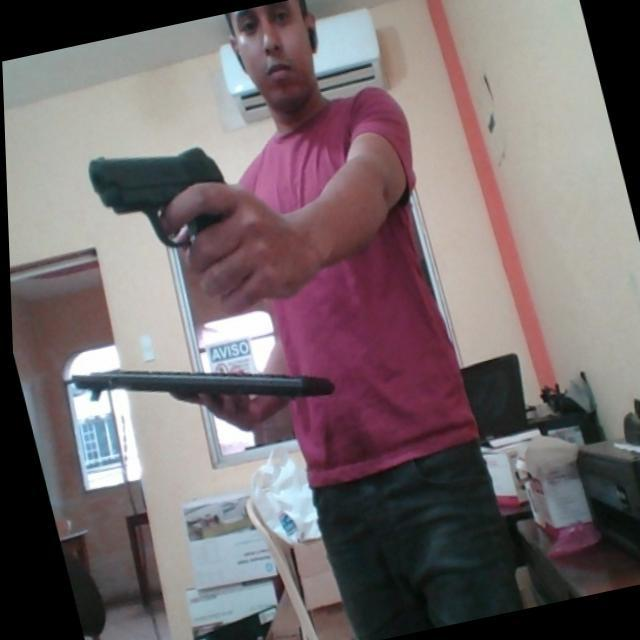weapon: (82, 129, 243, 264)
